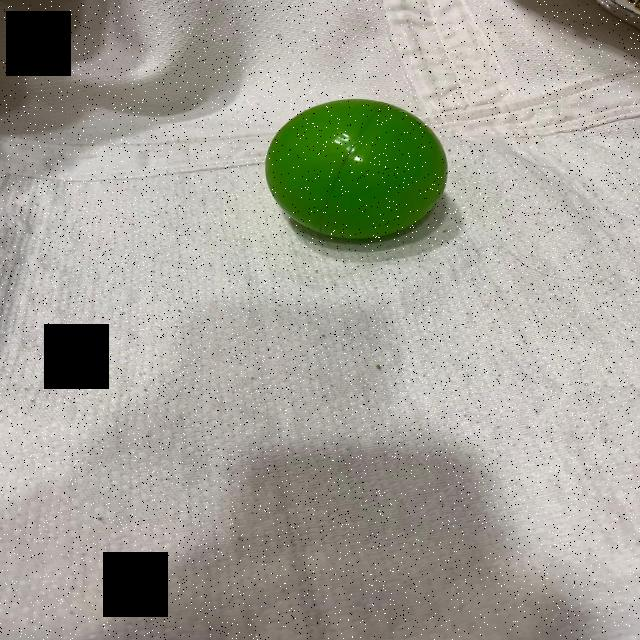ball: (262, 94, 451, 243)
